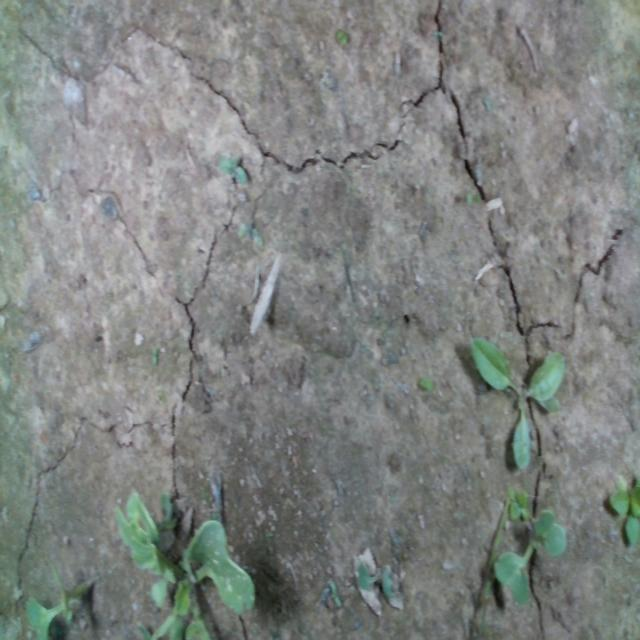weed: (150, 343, 158, 365)
